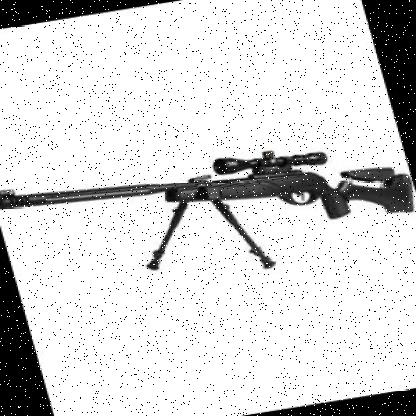rifle: (0, 118, 416, 274)
